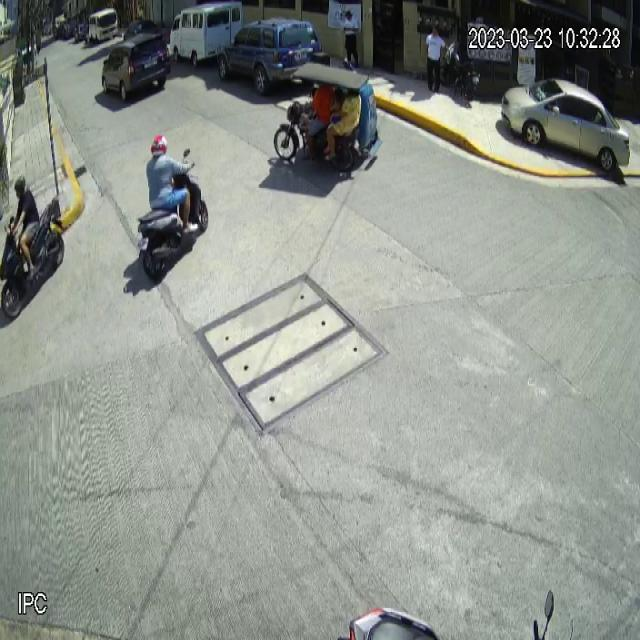Car: (500, 76, 631, 174), (216, 17, 323, 96), (100, 32, 172, 102)
Motorcycle: (137, 145, 210, 279), (0, 194, 69, 320)
Tricycle: (273, 60, 383, 174)
Van: (169, 1, 244, 70)
